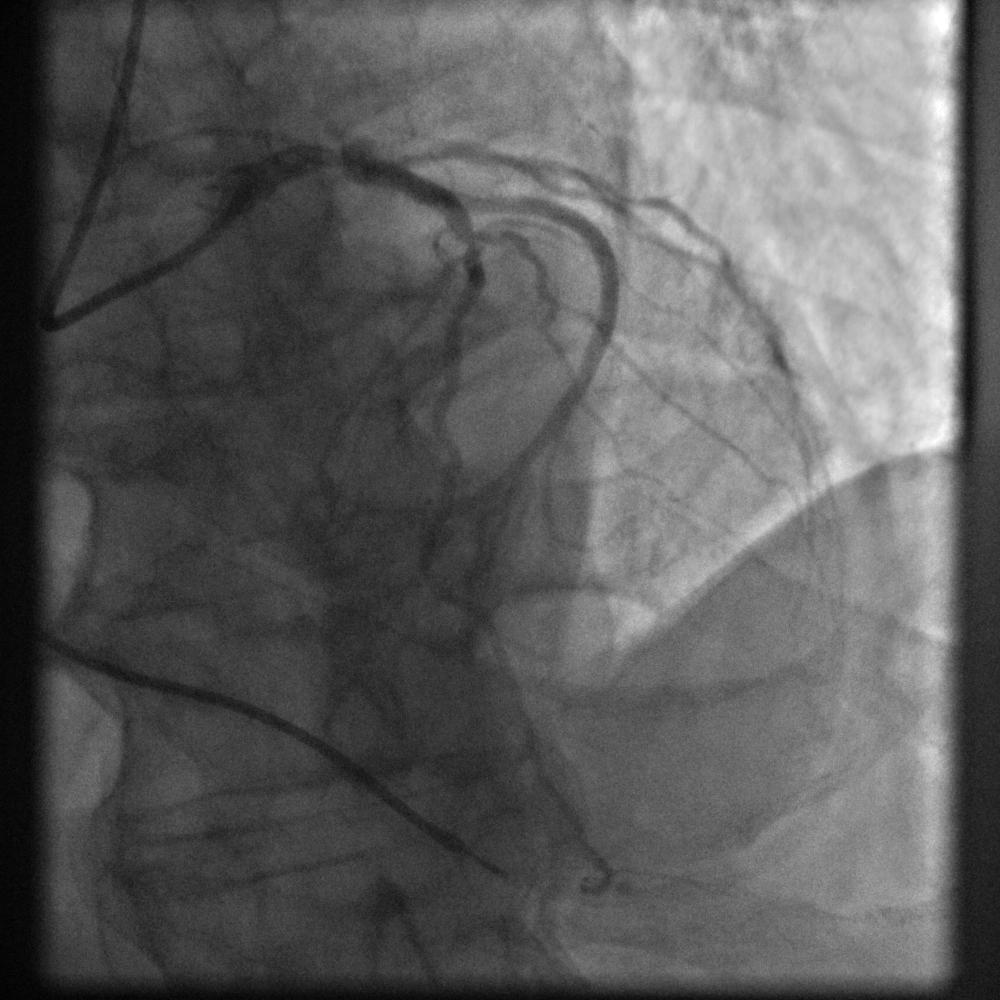Stenosis: (445, 216, 512, 262)
